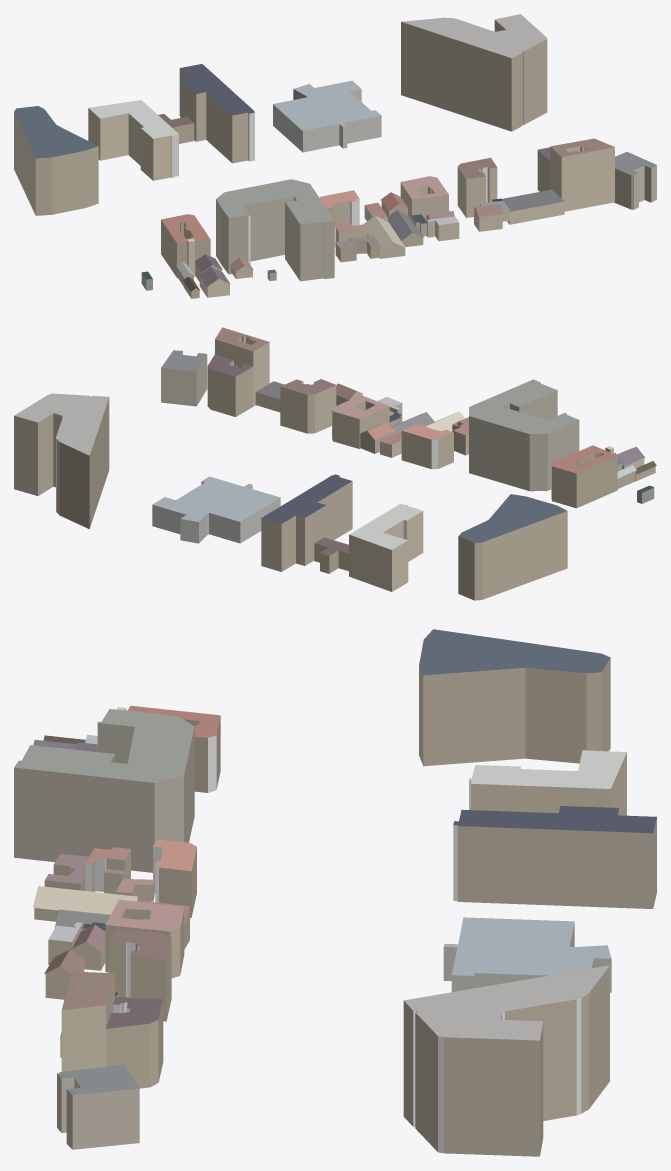
3 views of the same model, one above another, from view 1: azimuth 30°, elevation 25°; view 2: azimuth 150°, elevation 25°; view 3: azimuth 270°, elevation 25° (orthographic). The views are drawn at different scales.
Parts seen in each view (by area): view 1: tuile; view 2: tuile; view 3: tuile.
Part boxes in pixels (left/top/right/bottom): tuile: left=14, top=14, right=656, bottom=298; tuile: left=14, top=327, right=656, bottom=600; tuile: left=14, top=629, right=656, bottom=1156.
Bounding box in the file's own units: 250 × 37.55 × 170.
